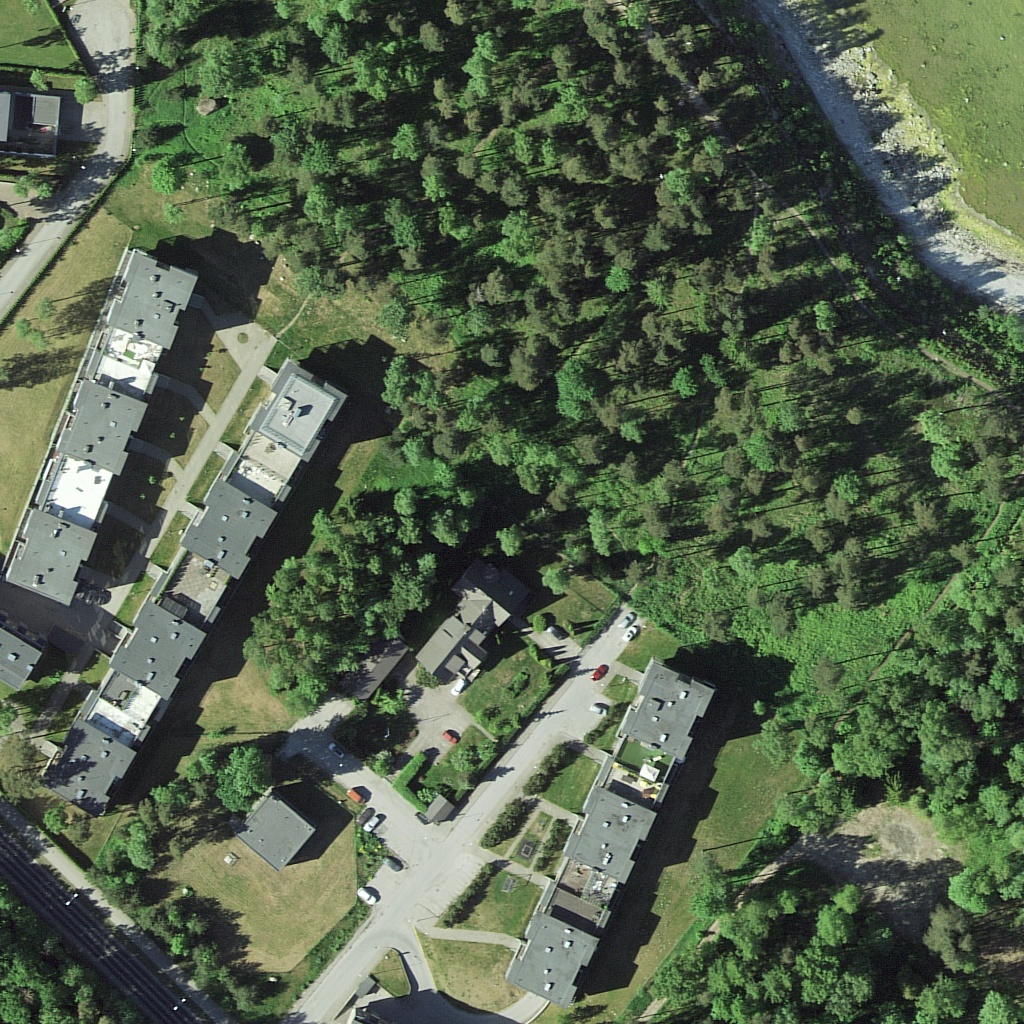building: (614, 653, 720, 765), (498, 904, 605, 1008), (176, 478, 278, 584), (105, 597, 208, 698), (417, 586, 514, 693), (562, 782, 663, 884), (7, 502, 107, 605), (252, 356, 349, 461), (101, 251, 198, 353), (38, 715, 138, 812), (55, 378, 152, 472), (235, 790, 327, 876), (1, 83, 69, 159)
